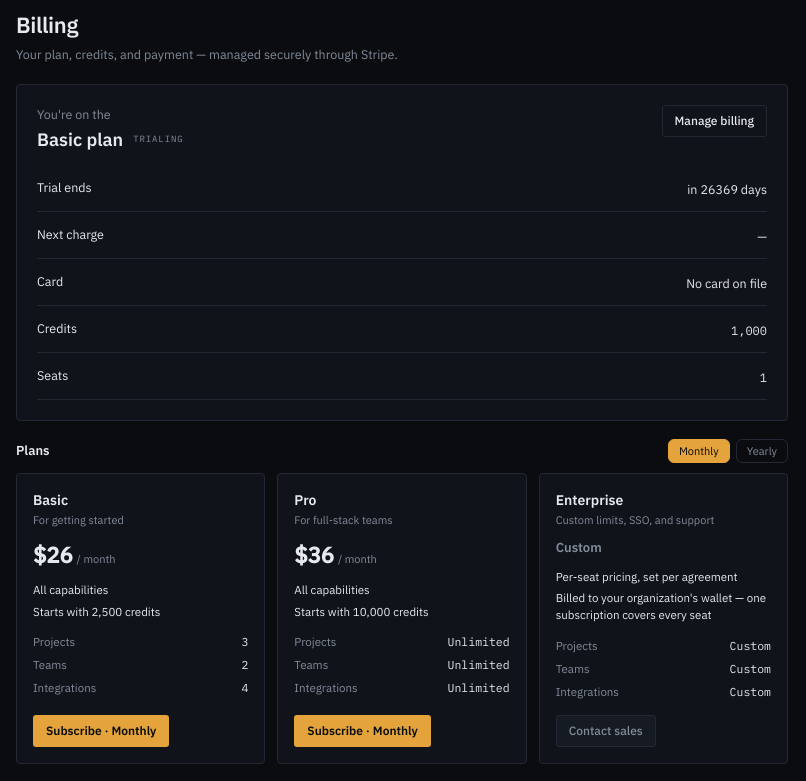
Test: BillingScreen › shows server prices for the selected interval (no hard-coded numbers)
Expected: the text "$26" is shown, top-left (33, 538), bottom-right (73, 571)
Expected: the text "$36" is shown, top-left (294, 538), bottom-right (334, 571)
Click the button "Yearly" at (762, 451), box top-left (736, 438), bottom-right (788, 463)
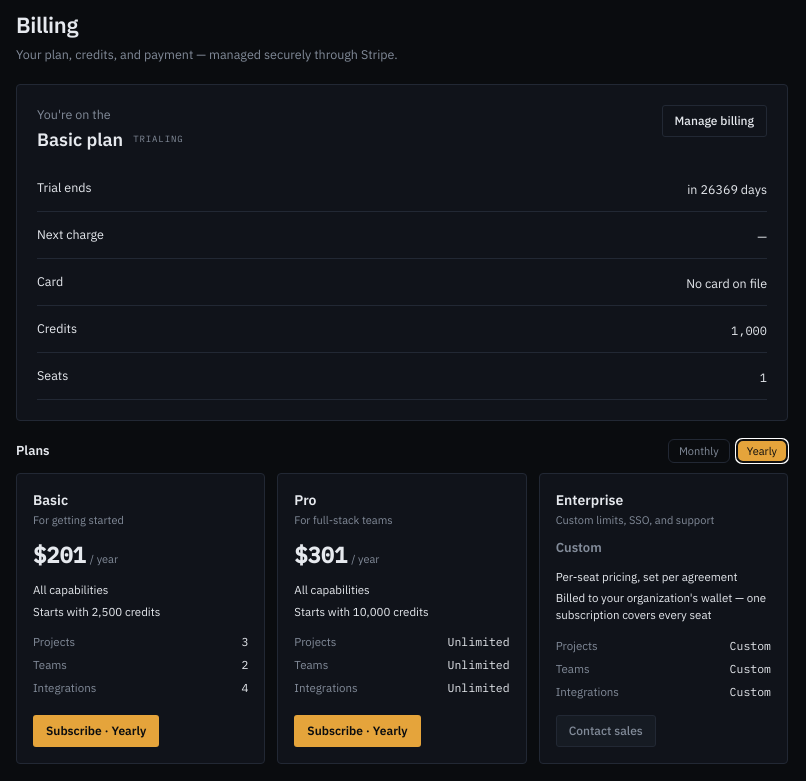
Expected: the text "$201" is shown, top-left (33, 538), bottom-right (86, 571)
Expected: the text "$26" is gone
